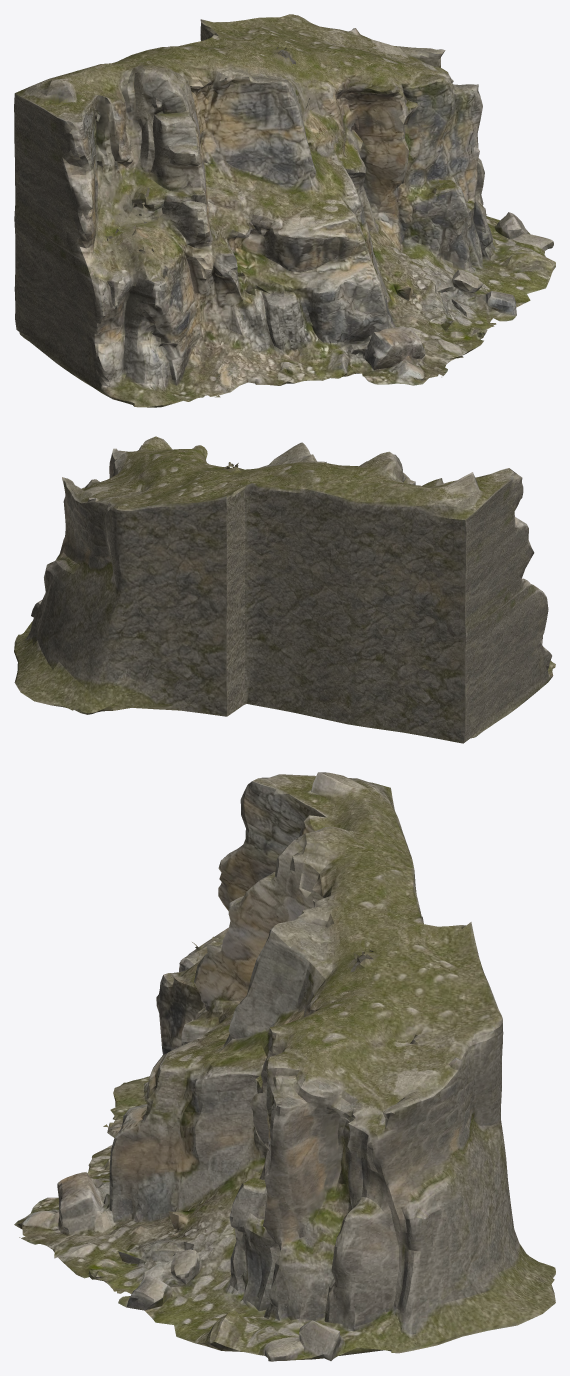
Rendered from Cliffs.glb.
3 views of the same model, one above another, from view 1: azimuth 30°, elevation 25°; view 2: azimuth 150°, elevation 25°; view 3: azimuth 270°, elevation 25° (orthographic). The views are drawn at different scales.
Visible parts, largest first — view 1: Mesh0; view 2: Mesh0; view 3: Mesh0.
Part boxes in pixels (box(x1,y1,x2,y2)): Mesh0: box(14, 14, 555, 407); Mesh0: box(14, 436, 555, 743); Mesh0: box(14, 772, 555, 1361).
Size of the model in its own units: 1.88 by 0.9583 by 1.48.
Materials: 1 (1 with a texture image).
